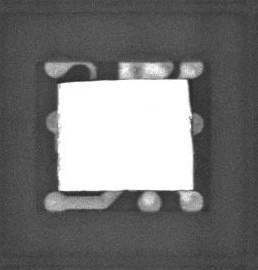DIE_BROKEN: (57, 78, 114, 86), (186, 79, 193, 131)
